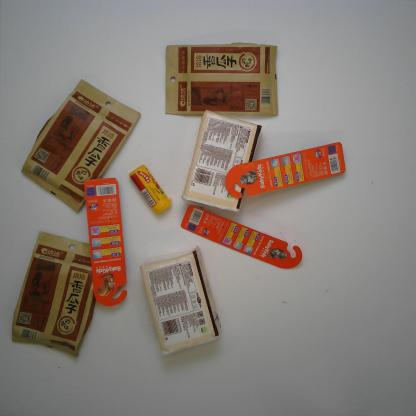Candy: (128, 164, 172, 218)
Dried Food: (20, 77, 142, 216), (8, 227, 99, 358), (163, 40, 281, 118)
Personal Hygiene: (181, 201, 304, 271), (224, 138, 346, 201), (82, 177, 128, 307)
Tissue: (138, 246, 223, 360), (179, 107, 264, 214)
